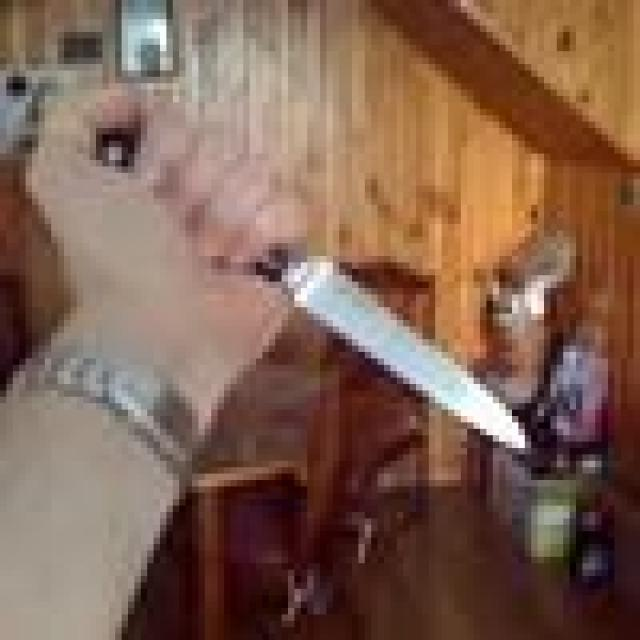Knife: (77, 109, 557, 461)
